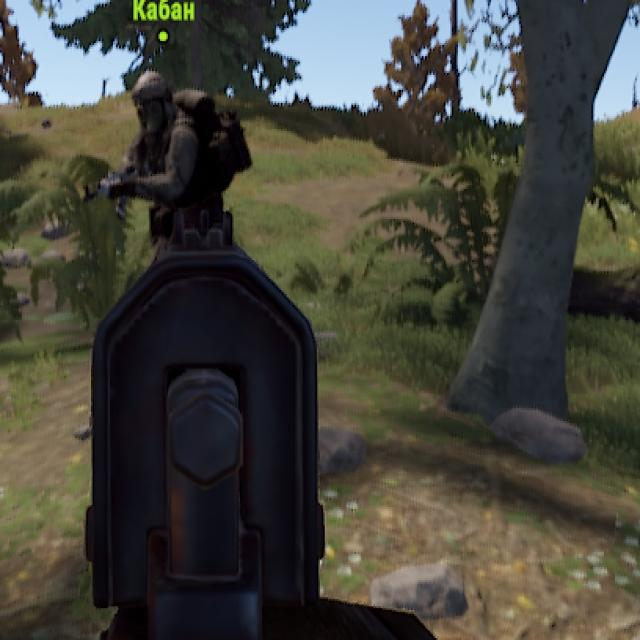Player: (111, 72, 245, 209)
